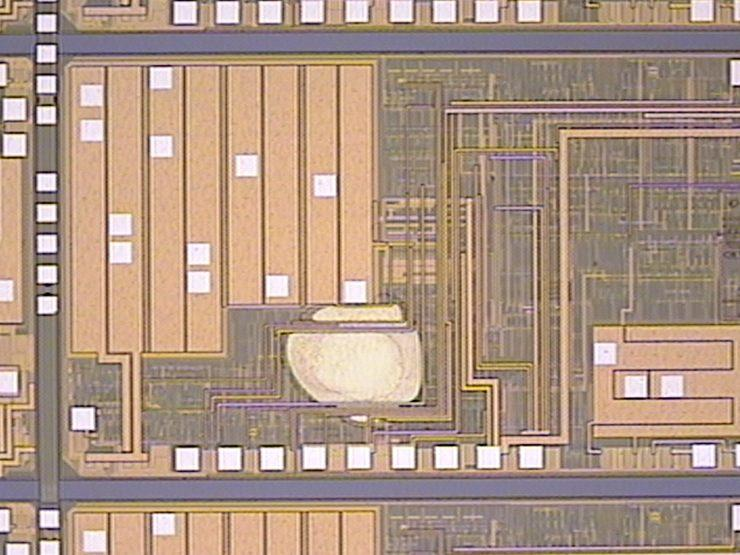BLOCK ETCH: (279, 286, 432, 429)
